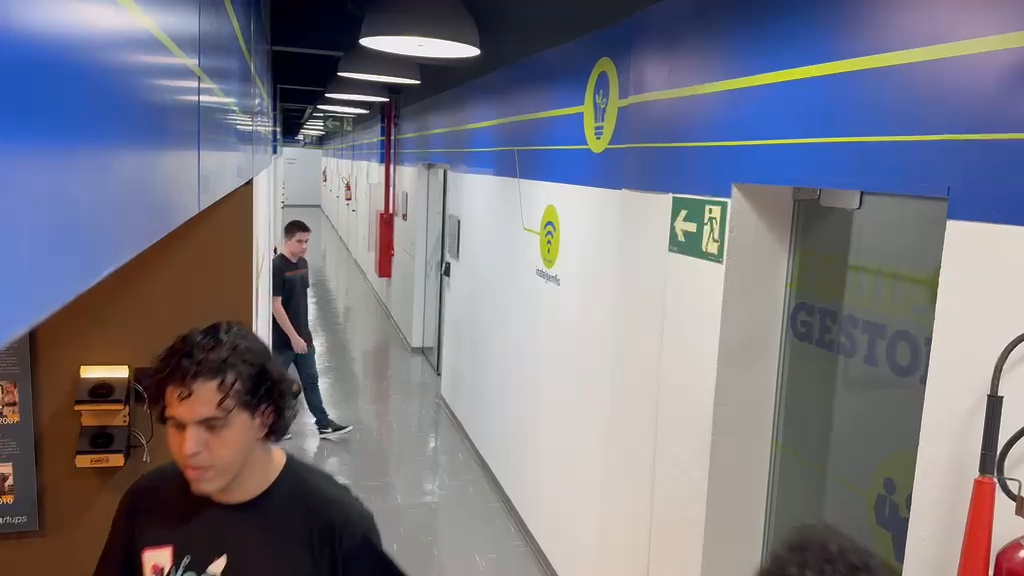person: (91, 322, 404, 572), (272, 218, 352, 439), (760, 522, 898, 575)
